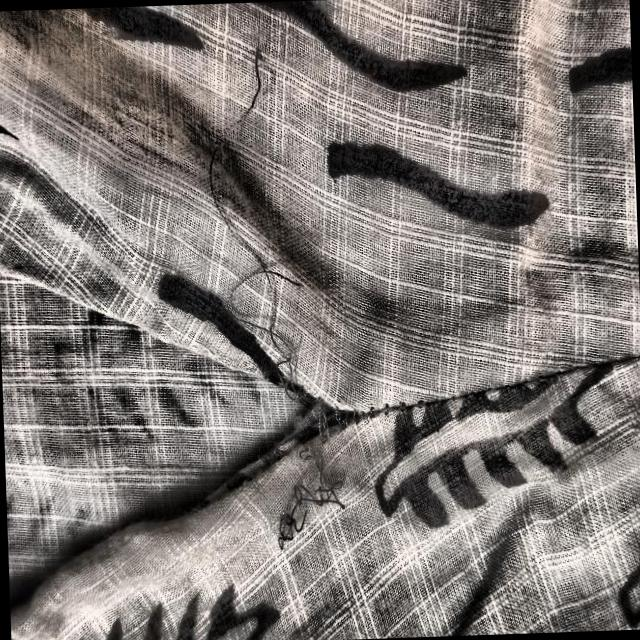gray stitch: (197, 34, 359, 576)
